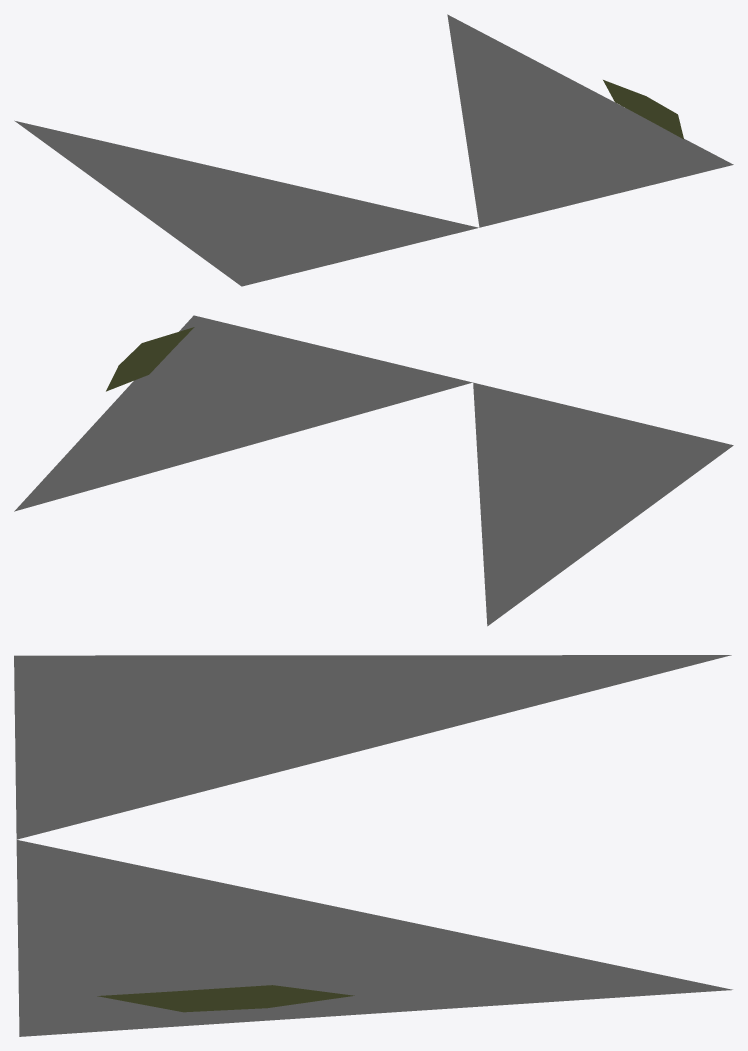
The picture shows the model from 3 angles, top to bottom: view 1: azimuth 30°, elevation 25°; view 2: azimuth 150°, elevation 25°; view 3: azimuth 270°, elevation 25°; orthographic projection. The views are drawn at different scales.
Parts seen in each view (by area): view 1: merged__lod1; view 2: merged__lod1; view 3: merged__lod1.
Part boxes in pixels (x1,y1,x2,y2): merged__lod1: (14, 14, 733, 286); merged__lod1: (14, 315, 733, 626); merged__lod1: (14, 655, 732, 1036).
Bounding box in the file's own units: 211 × 5.59 × 168.
